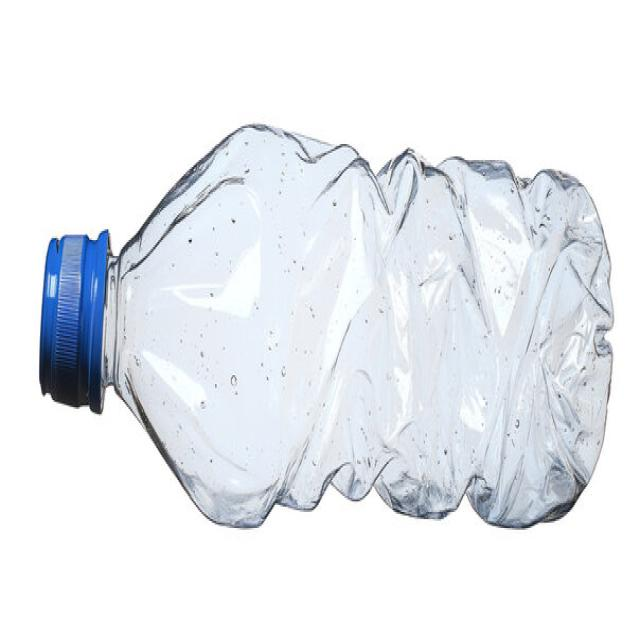plastic_bottle: (24, 100, 624, 583)
